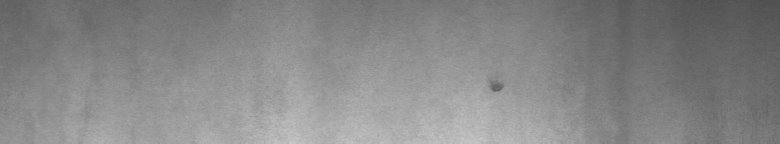fi: (490, 79, 507, 100)
